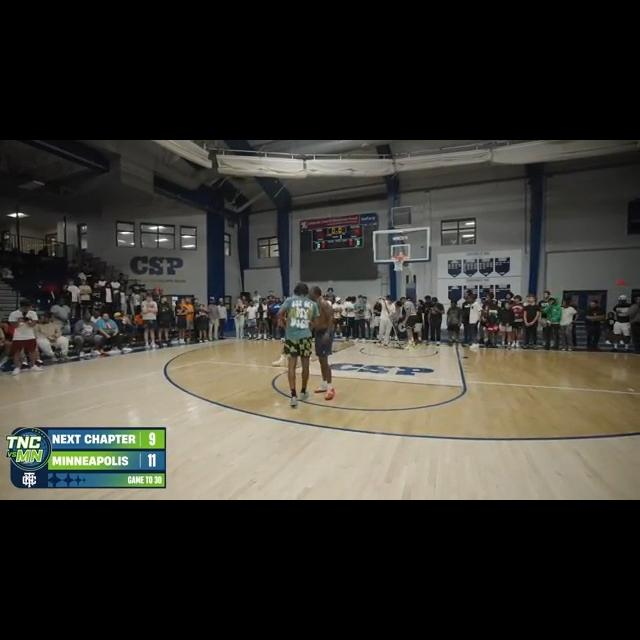hoop: (391, 253, 406, 271)
